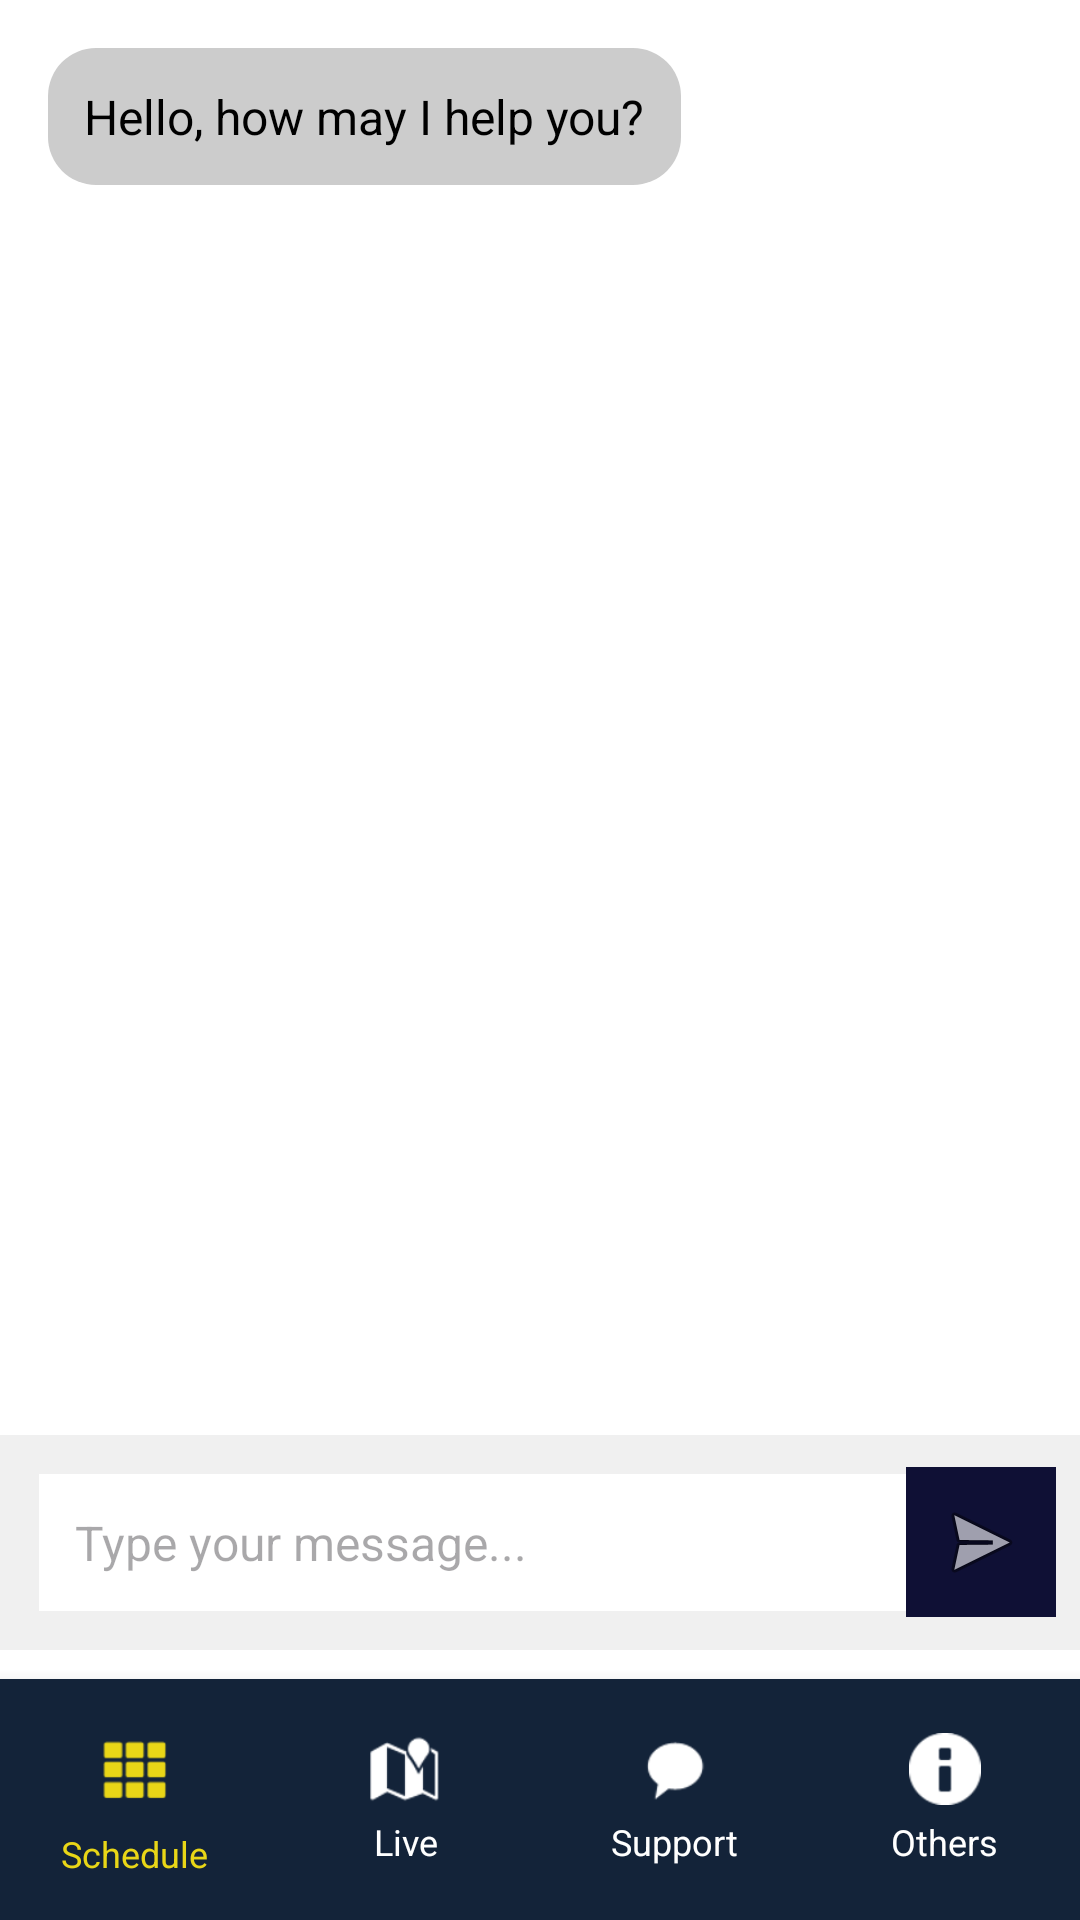

Icons on this 1080×1920 Android screen, each with its box as (x1, y1, x2, y2):
dialer: (103, 1741, 166, 1798)
info: (909, 1733, 981, 1805)
map: (370, 1737, 439, 1801)
Send: (906, 1467, 1056, 1617)
sym action chat: (647, 1742, 704, 1800)
